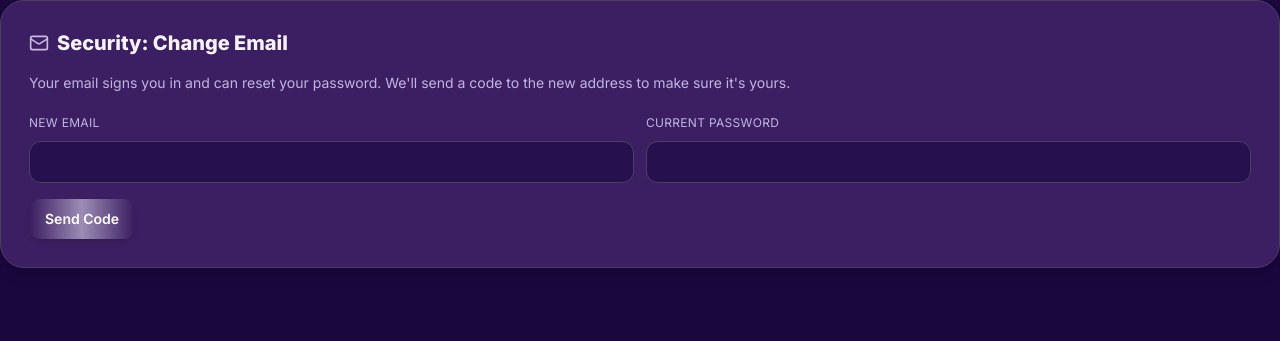
Scenario: changing the email › keeps the code step open on a wrong code
Type "new@example.com" into the field labelled "New Email". click: (332, 162)
box: [29,141,634,183]
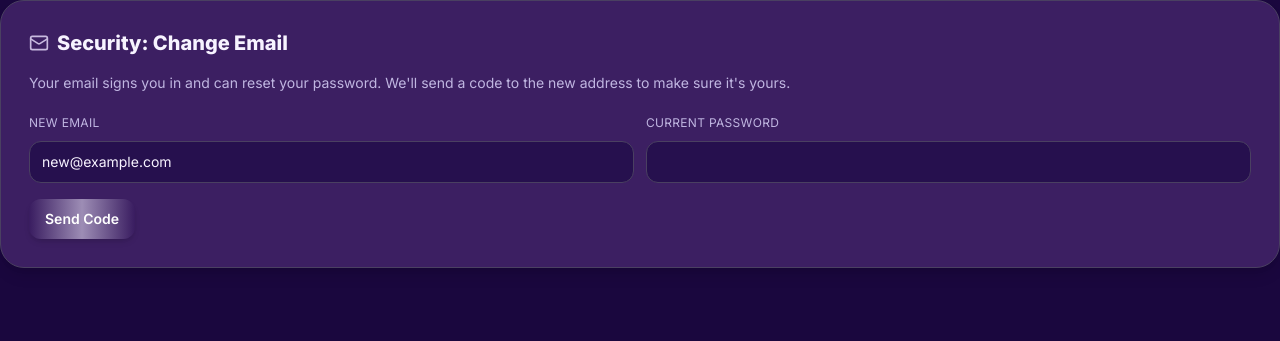
Type "Secret123" into the password field labelled "Current Password". click: (948, 162)
box: [646,141,1251,183]
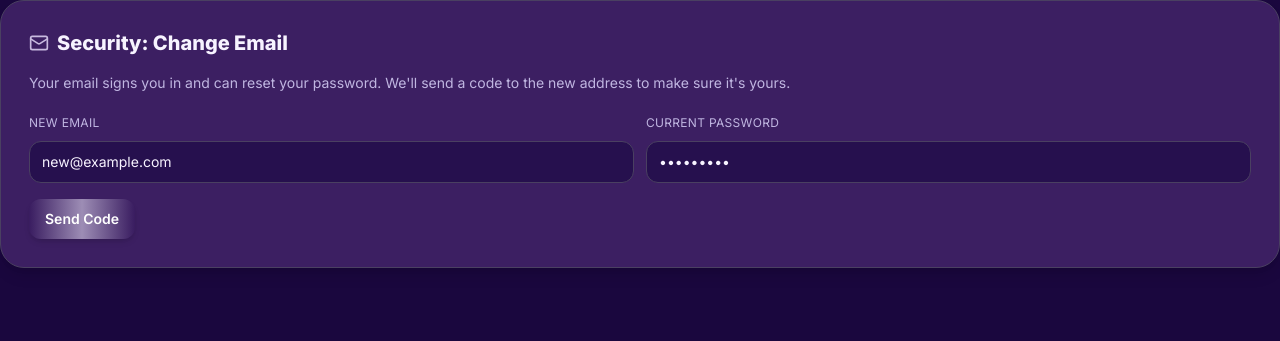
Click the button "Send Code". click: (82, 219)
box: [29,199,135,239]
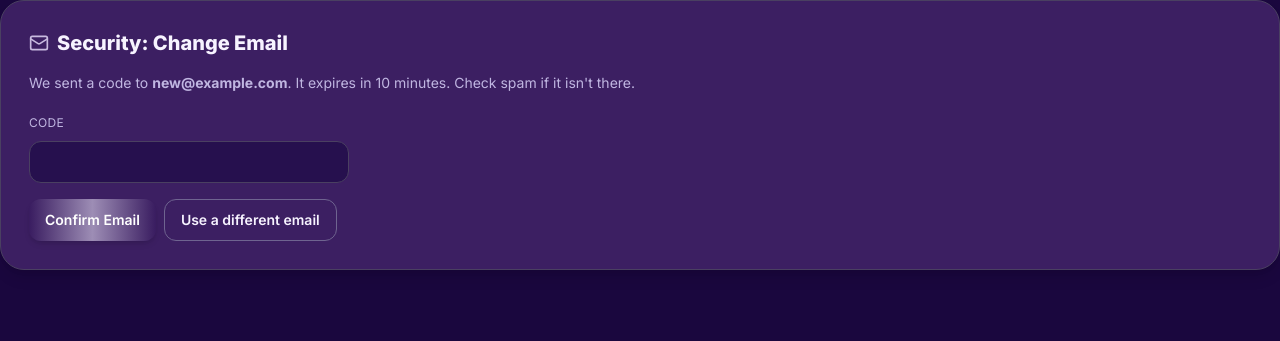
Expected: the text "We sent a code to" is shown, [29,74,152,91]
Type "000000" into the field labelled "Code". click: (189, 162)
box: [29,141,349,183]
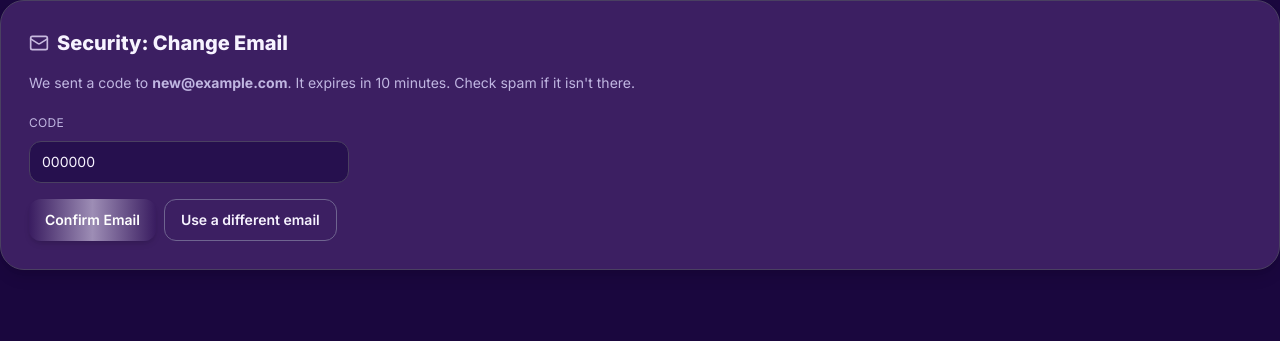
Click the button "Confirm Email". click: (92, 220)
box: [29,199,156,241]
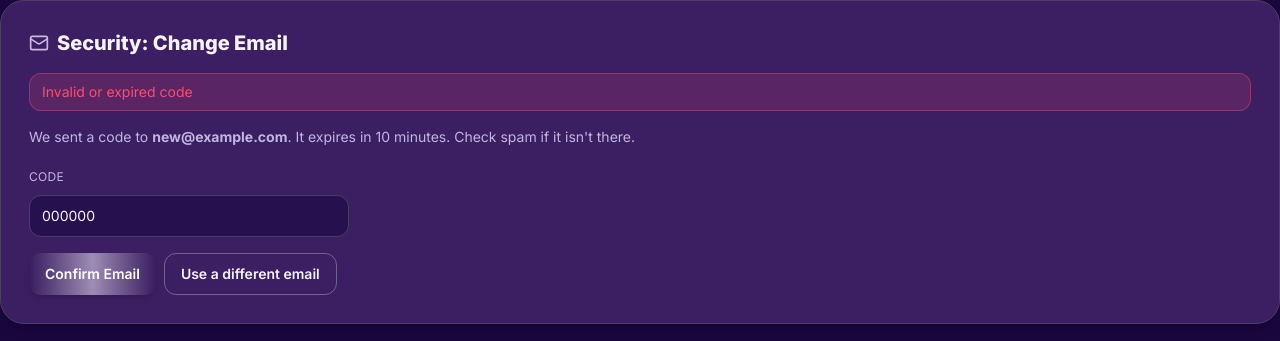
Expected: the button "Confirm Email" is shown, [29,253,156,295]
Expected: the message reads "Invalid or expired code", [42,83,193,100]
